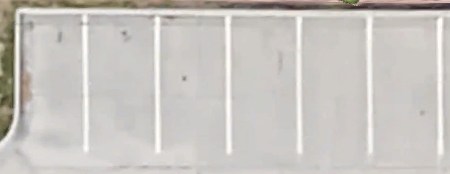Vacant: (84, 11, 159, 153), (228, 12, 301, 155), (157, 12, 230, 154), (298, 12, 370, 155), (369, 13, 442, 154), (16, 11, 86, 154)
